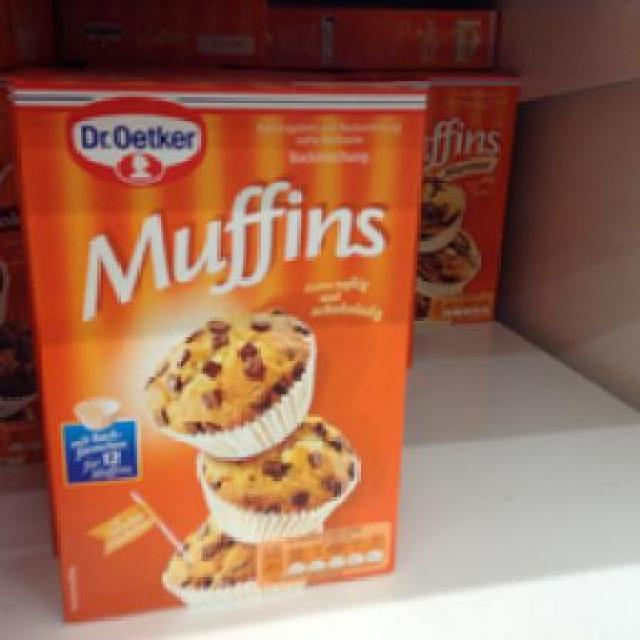Cake: (6, 66, 434, 623)
